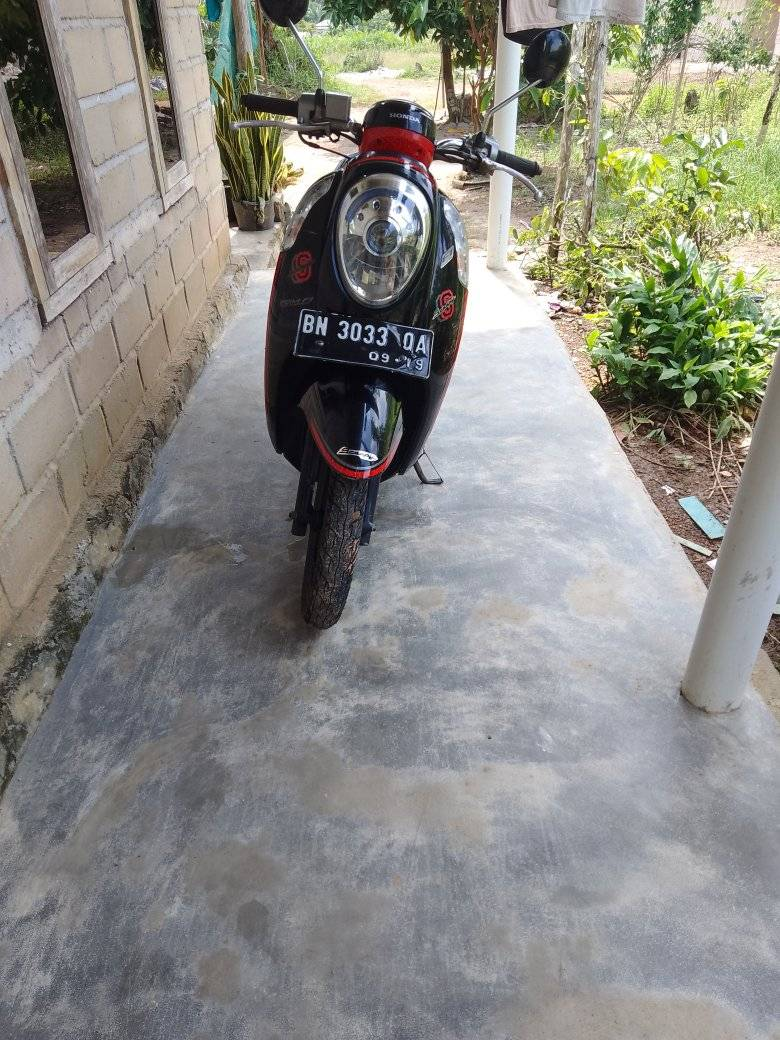plate: (287, 299, 439, 383)
